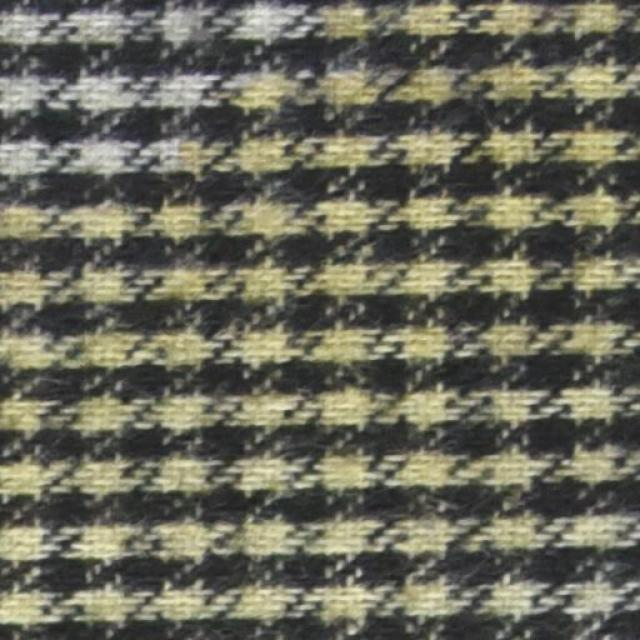Stain: (0, 1, 639, 640)
